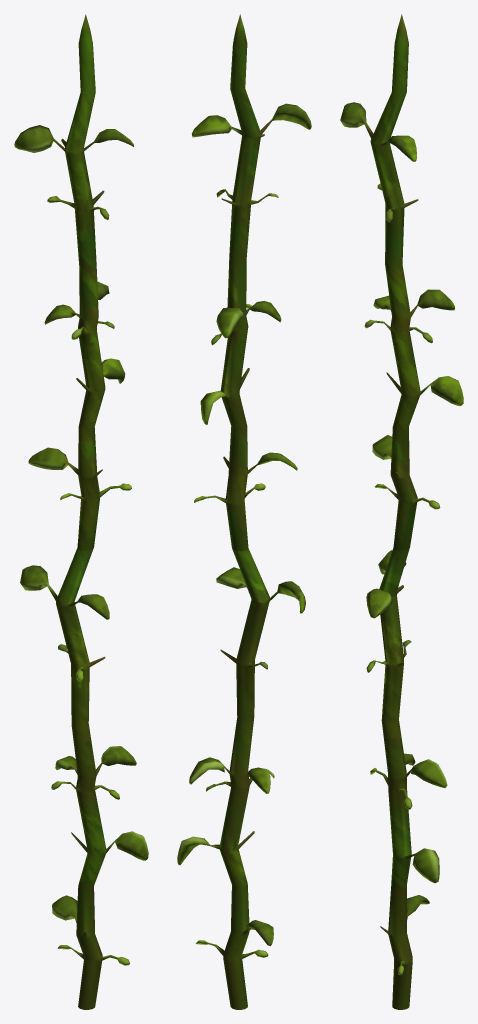
Rendered from Vine_Climb.obj.
The picture shows the model from 3 angles, left to right: view 1: azimuth 30°, elevation 25°; view 2: azimuth 210°, elevation 25°; view 3: azimuth 330°, elevation 25°; orthographic projection.
Visible parts, largest first — view 1: Cylinder001; view 2: Cylinder001; view 3: Cylinder001.
Part boxes in pixels (x1,y1,x2,y2): Cylinder001: [14, 14, 148, 1009]; Cylinder001: [177, 14, 311, 1009]; Cylinder001: [340, 14, 463, 1009].
Bounding box in the file's own units: 21.08 × 177 × 18.84.
